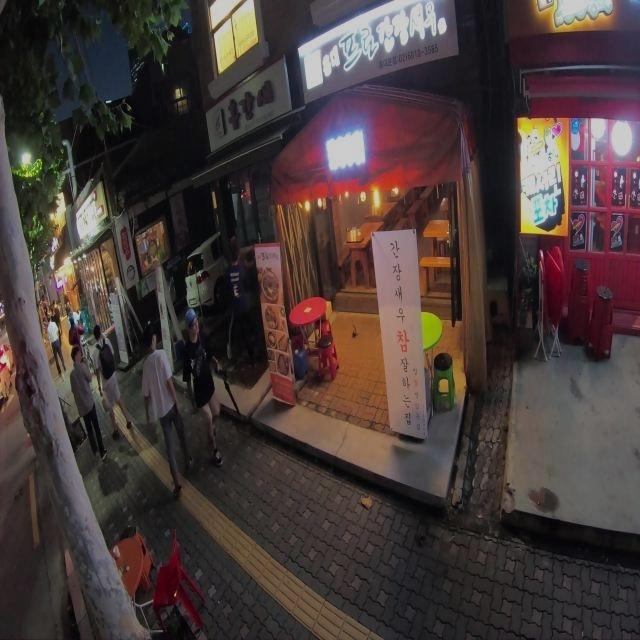fight: (179, 306, 227, 467), (223, 233, 263, 373)
non-fight: (136, 328, 196, 502), (89, 323, 134, 442), (67, 345, 110, 462), (43, 315, 72, 380)
